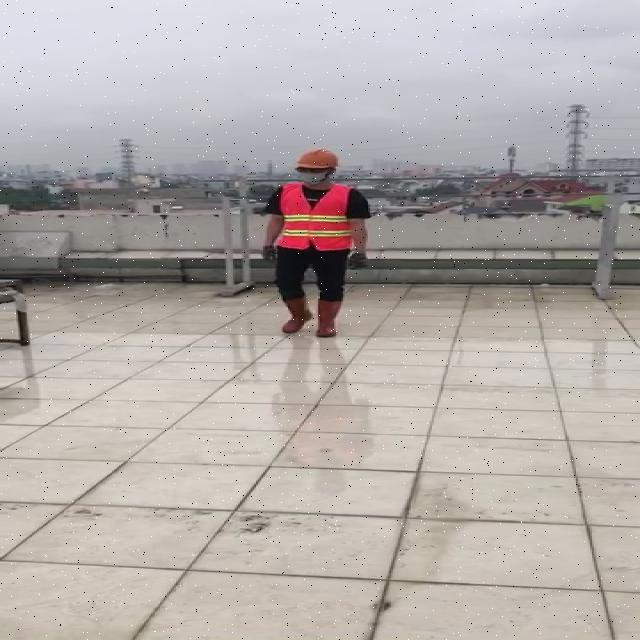Hard_hat: (291, 145, 343, 175)
Person: (259, 149, 383, 443)
Vest: (280, 183, 359, 254)
